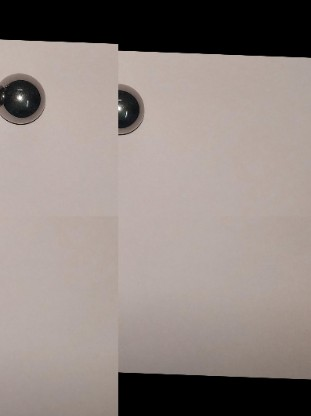ironball: (0, 65, 48, 130), (115, 82, 150, 132)
